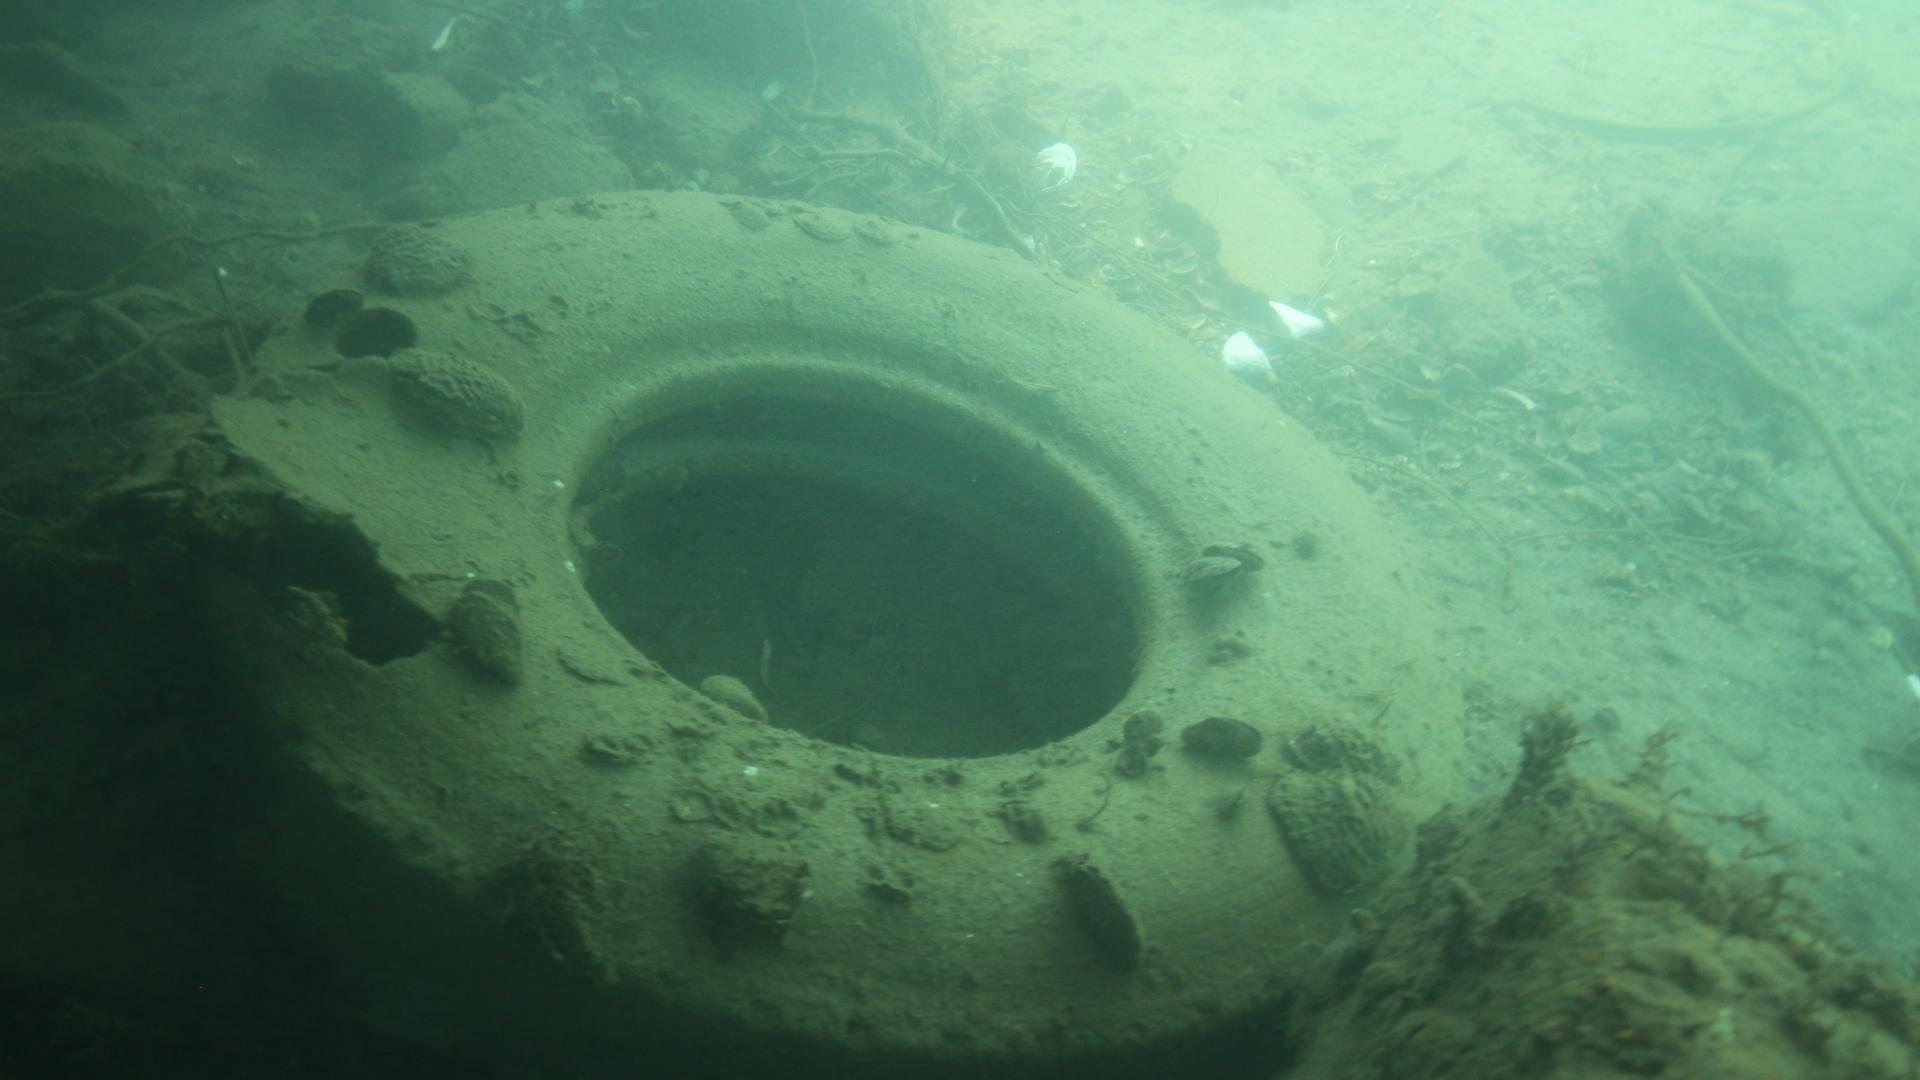tire: (199, 193, 1465, 1080)
